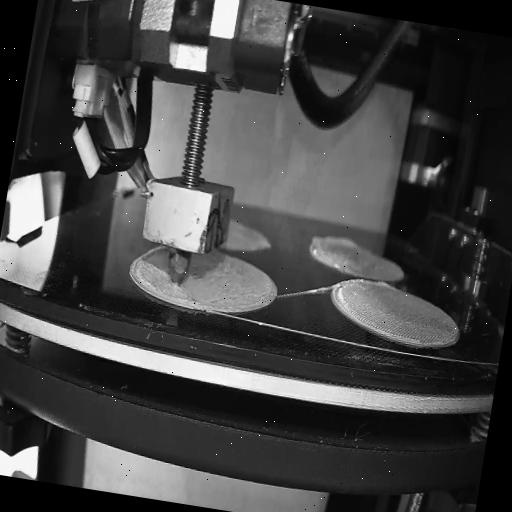over_extrusion: (302, 230, 360, 260), (138, 238, 166, 262), (142, 263, 172, 282), (374, 275, 396, 289)
